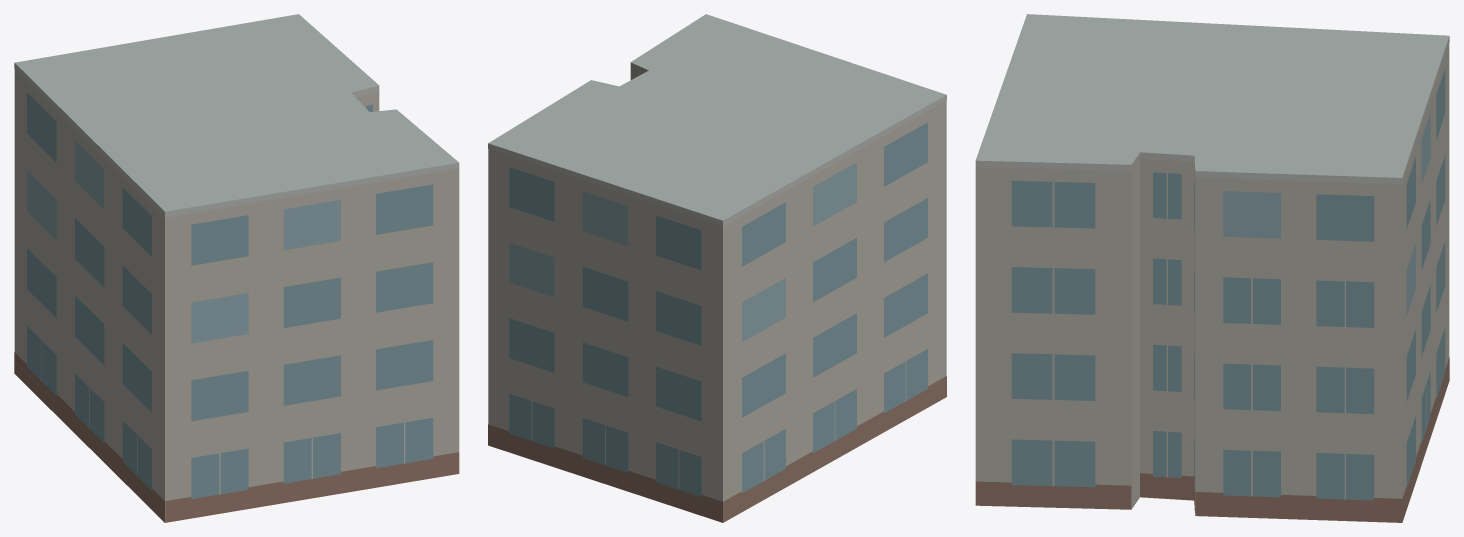
Rendered from survey-upis-33043269.glb.
3 views of the same model, side by side, from view 1: azimuth 30°, elevation 25°; view 2: azimuth 150°, elevation 25°; view 3: azimuth 270°, elevation 25° (orthographic). The views are drawn at different scales.
Parts seen in each view (by area): view 1: survey-upis-33043269.tmp; view 2: survey-upis-33043269.tmp; view 3: survey-upis-33043269.tmp.
Part boxes in pixels (x1,y1,x2,y2): survey-upis-33043269.tmp: [14, 14, 459, 522]; survey-upis-33043269.tmp: [488, 14, 946, 522]; survey-upis-33043269.tmp: [975, 14, 1449, 522].
Bounding box in the file's own units: 13.06 × 12.8 × 15.95.
